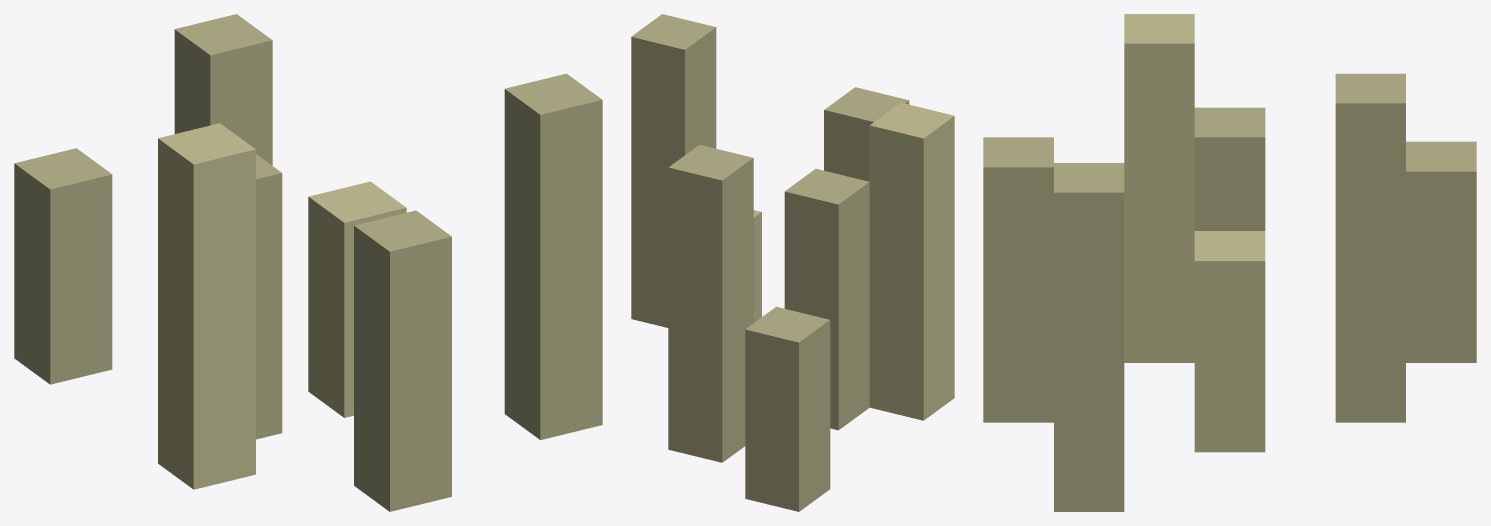
File: barron_04.glb
The picture shows the model from 3 angles, left to right: view 1: azimuth 30°, elevation 25°; view 2: azimuth 150°, elevation 25°; view 3: azimuth 270°, elevation 25°; orthographic projection. The views are drawn at different scales.
Visible parts, largest first — view 1: barron_04; view 2: barron_04; view 3: barron_04.
Part boxes in pixels (box(x1,y1,x2,y2)): barron_04: box(14, 14, 602, 511); barron_04: box(631, 14, 954, 511); barron_04: box(983, 14, 1476, 511).
Bounding box in the file's own units: 0.6 × 0.5 × 0.7.
